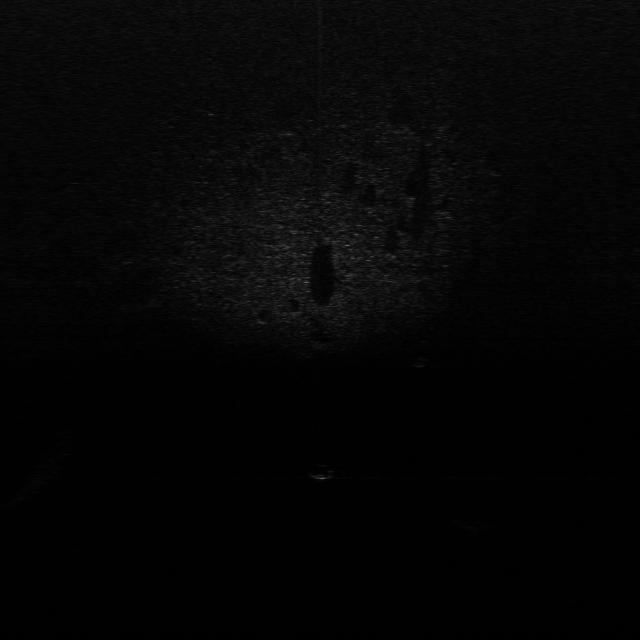ball: (308, 459, 337, 482)
tyre: (411, 337, 437, 370)
